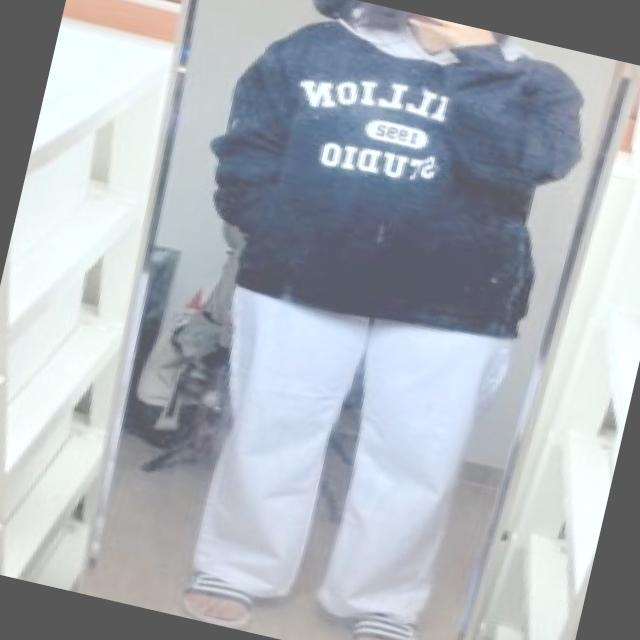cottonpants: (161, 270, 510, 640)
hoodies: (175, 0, 597, 362)
